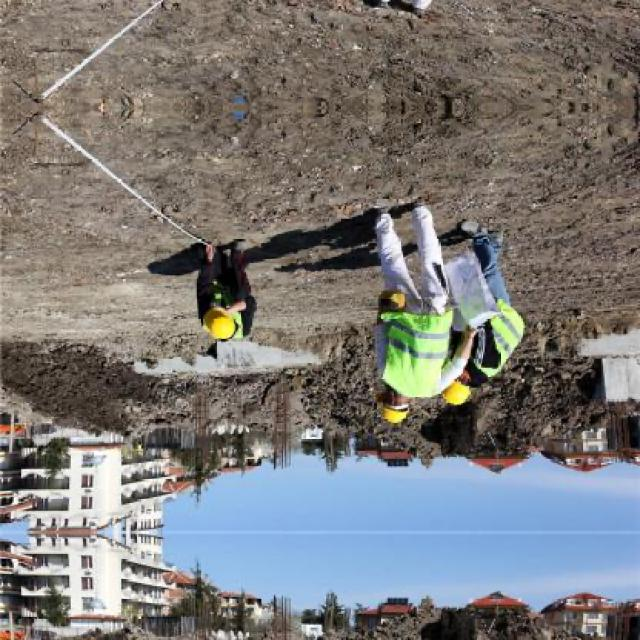con casco: (378, 368, 463, 440), (193, 271, 272, 330), (435, 371, 498, 422)
